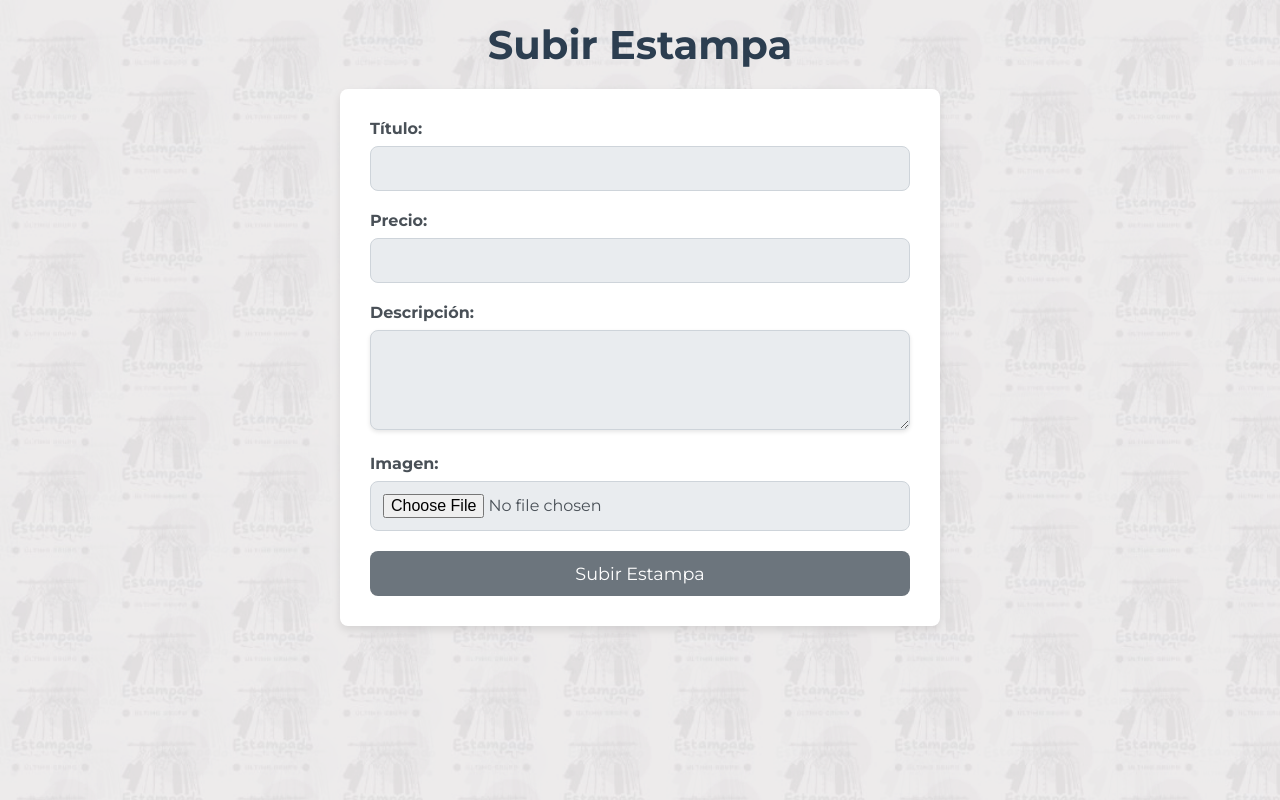
Test: SubirEstampa › Límite de caracteres (max 17)
The width and height of the screenshot is (1280, 800).
Type "Este es un título muy largo" into the field labelled "Título:" at point(640, 168), box [370,146,910,191]
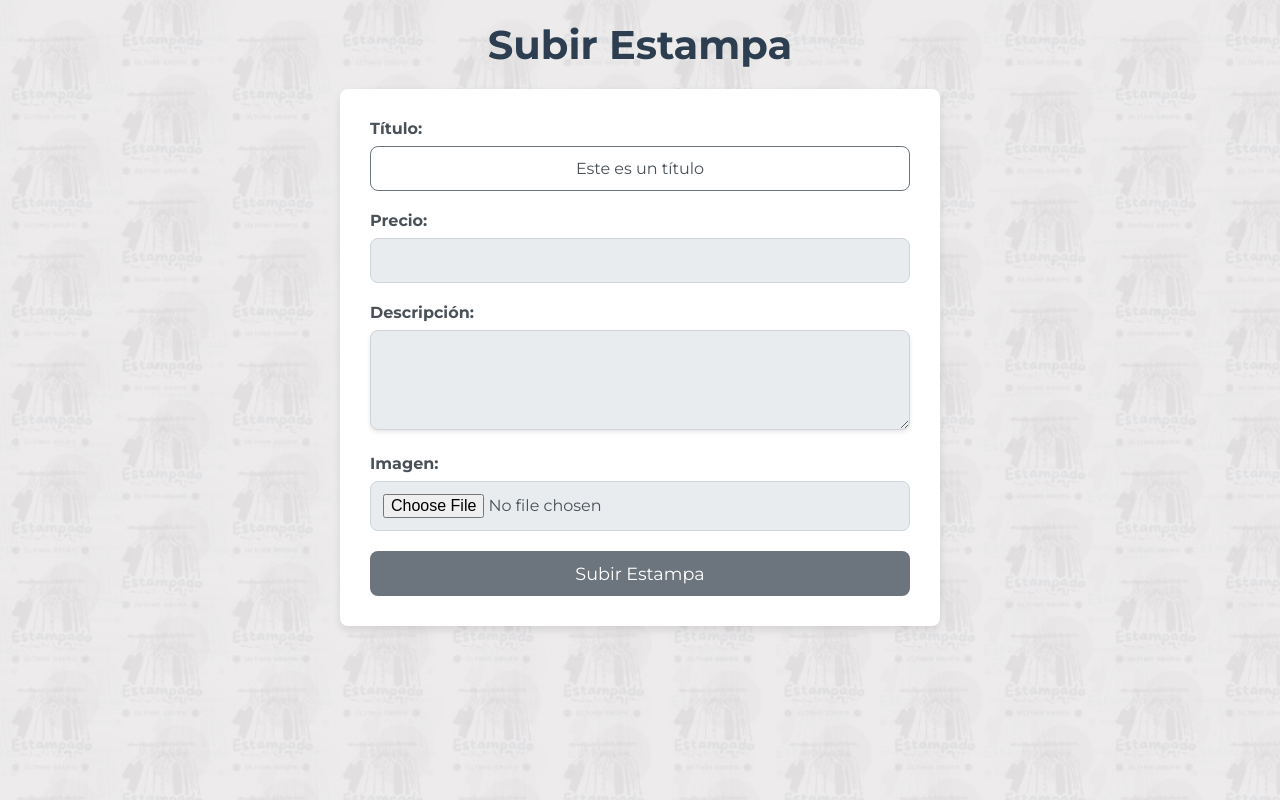
Check: the field labelled "Título:" holds "Este es un título", box [370,146,910,191]
